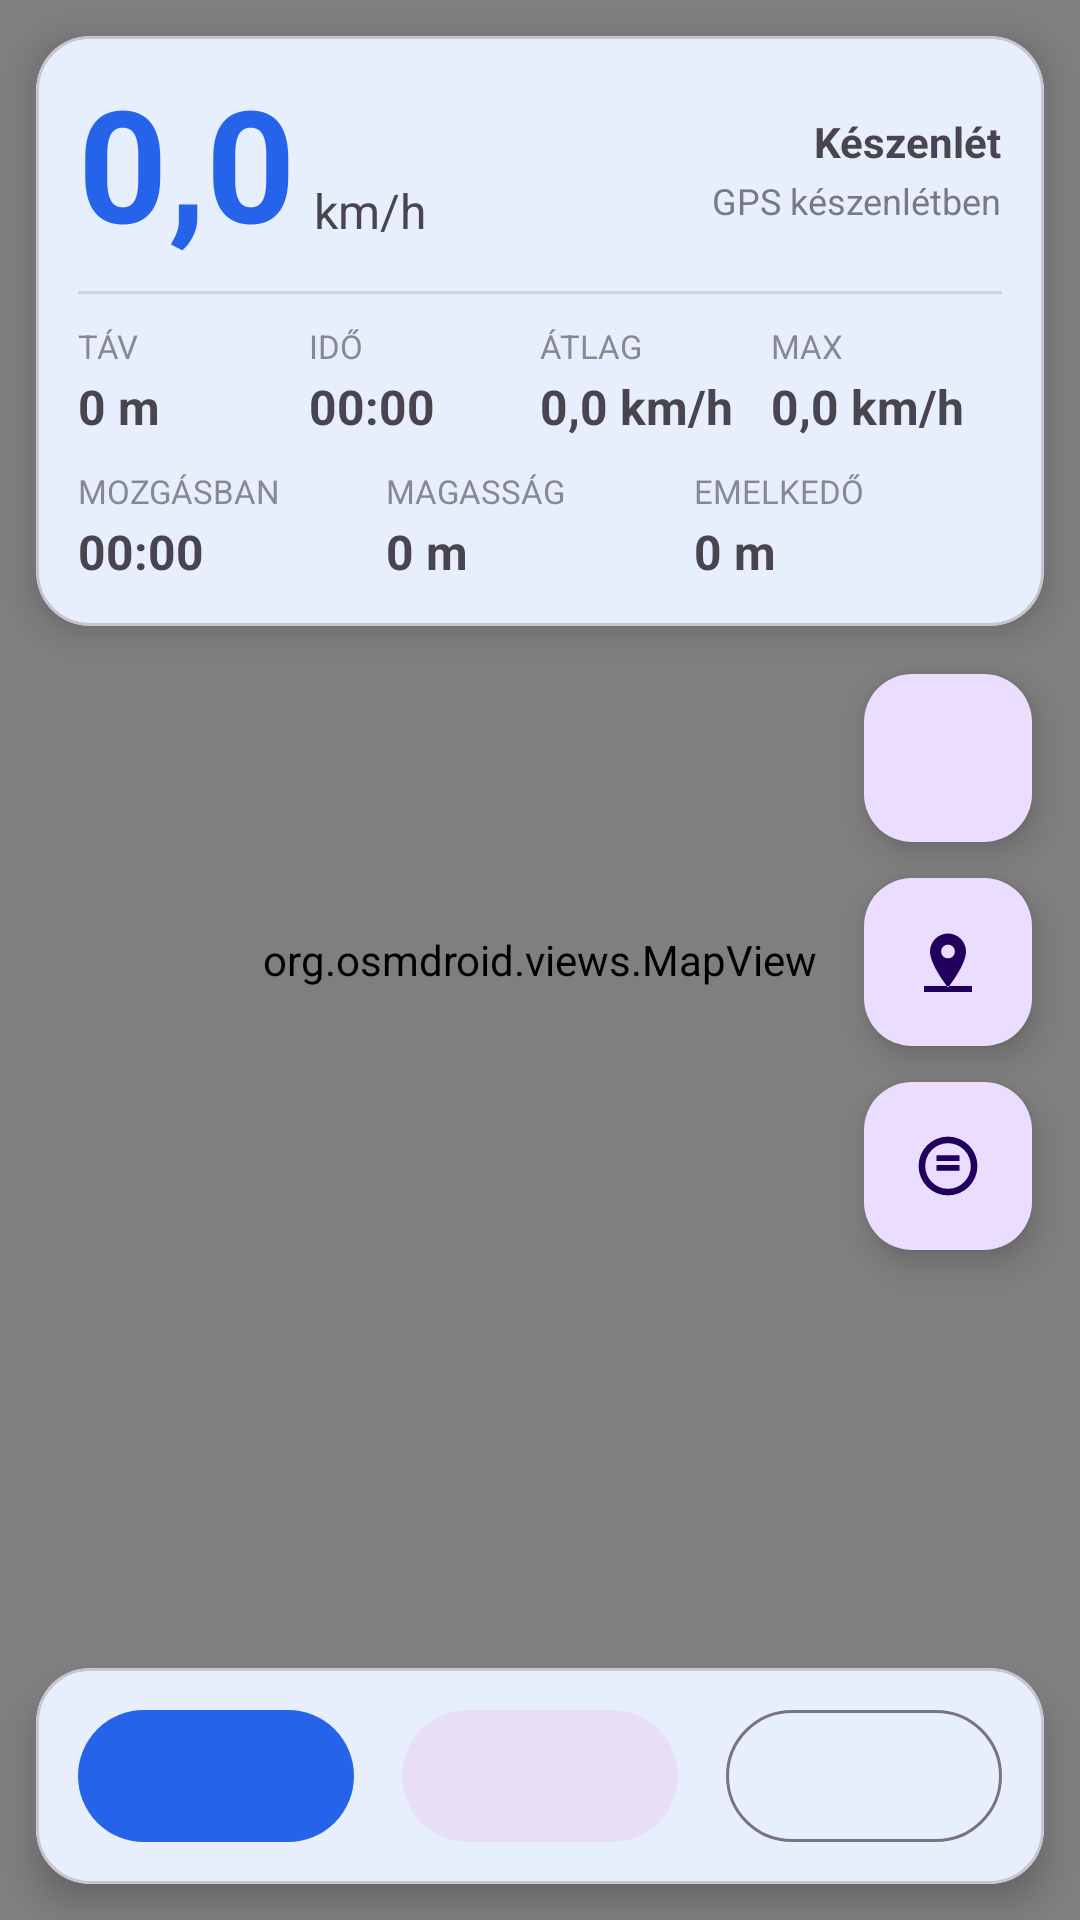

Locate icon controls on the screen. Image size 1080*1920, boxes as rect(x1, y1, x2, y2).
Útmenti adatok: rect(864, 878, 1032, 1046)
